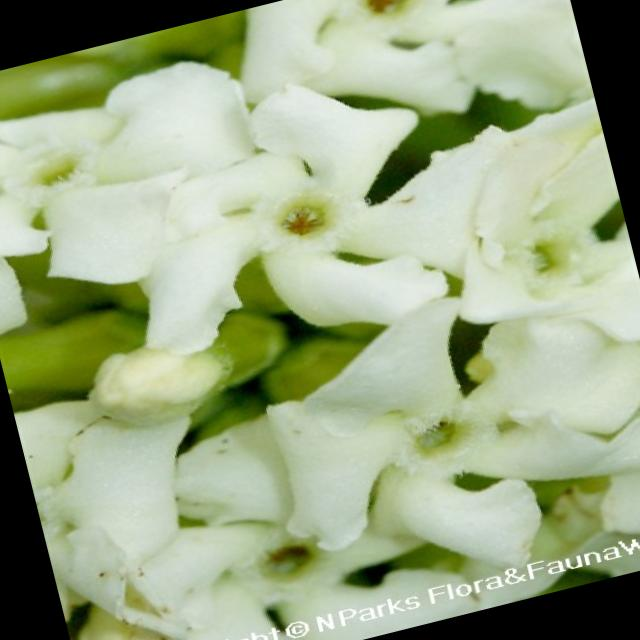Indian Pulai: (151, 171, 640, 570), (14, 302, 492, 640), (31, 63, 453, 392), (217, 0, 628, 321)
